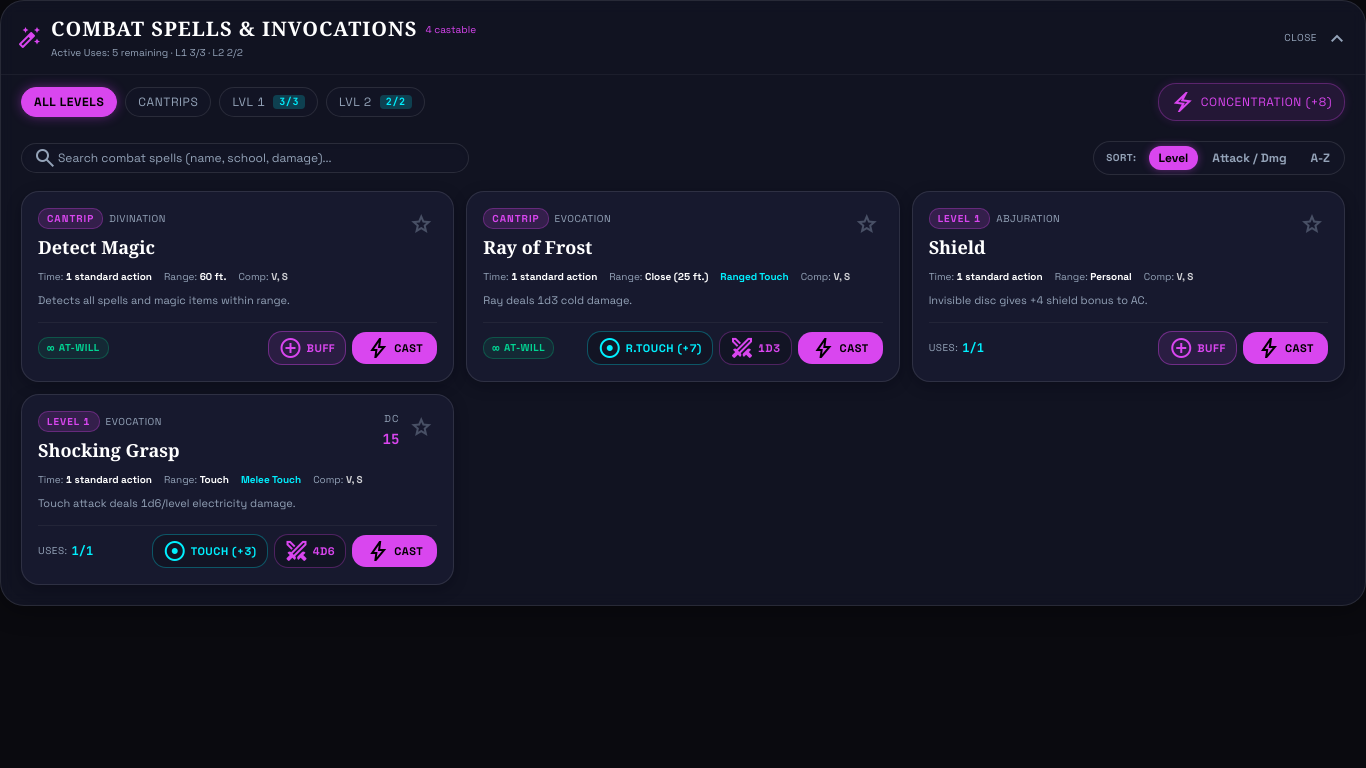
Test case: CombatSpellsSection › allows sorting spells by Attack / Dmg and Alphabetical
# Sort Attack / Dmg first
What coordinates should you click on to do the following:
click the button "Attack / Dmg"
I would click on:
 (1249, 158)
Its box is [1202,146,1297,170].
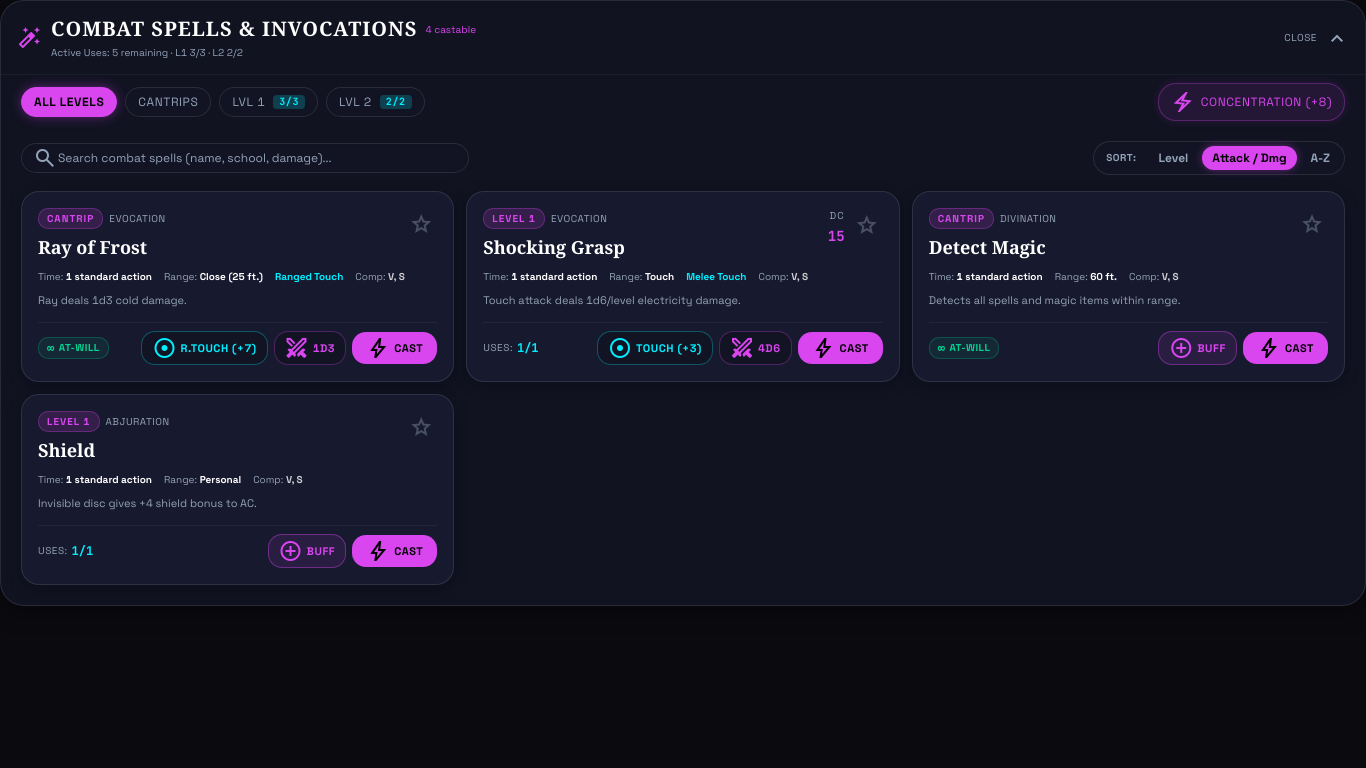
# Sort A-Z
What coordinates should you click on to do the following:
click the button "A-Z"
I would click on:
 (1320, 158)
Its box is [1301,146,1340,170].
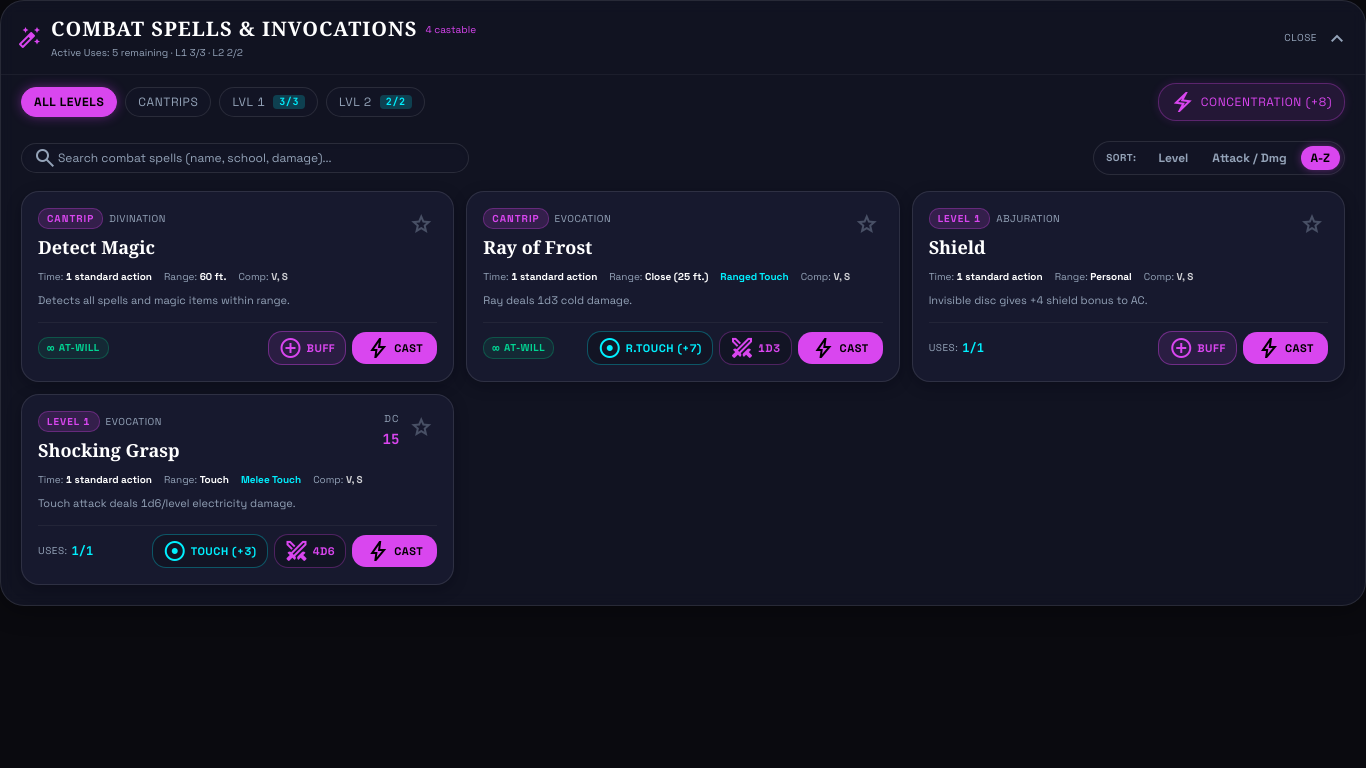
Now the headings read "Detect Magic", "Ray of Frost", "Shield", "Shocking Grasp", in this order, box [38,235,155,259]; [483,235,592,259]; [929,235,986,259]; [38,438,180,462]
